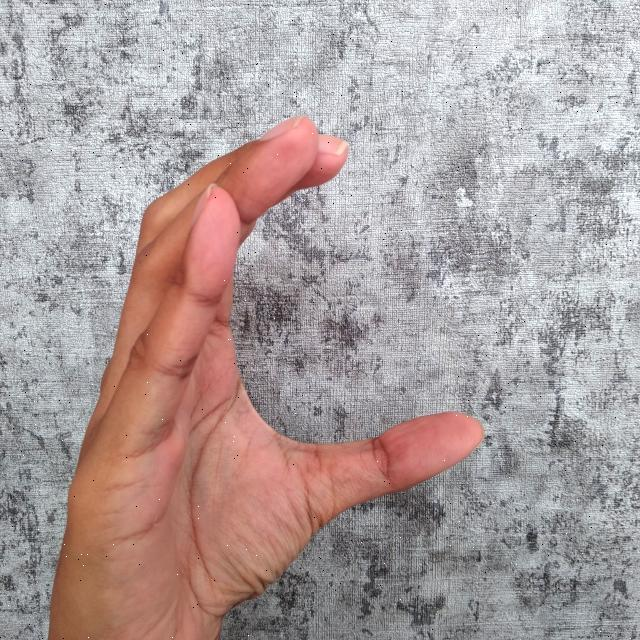C: (49, 109, 490, 640), (45, 109, 485, 640), (49, 110, 489, 640)
